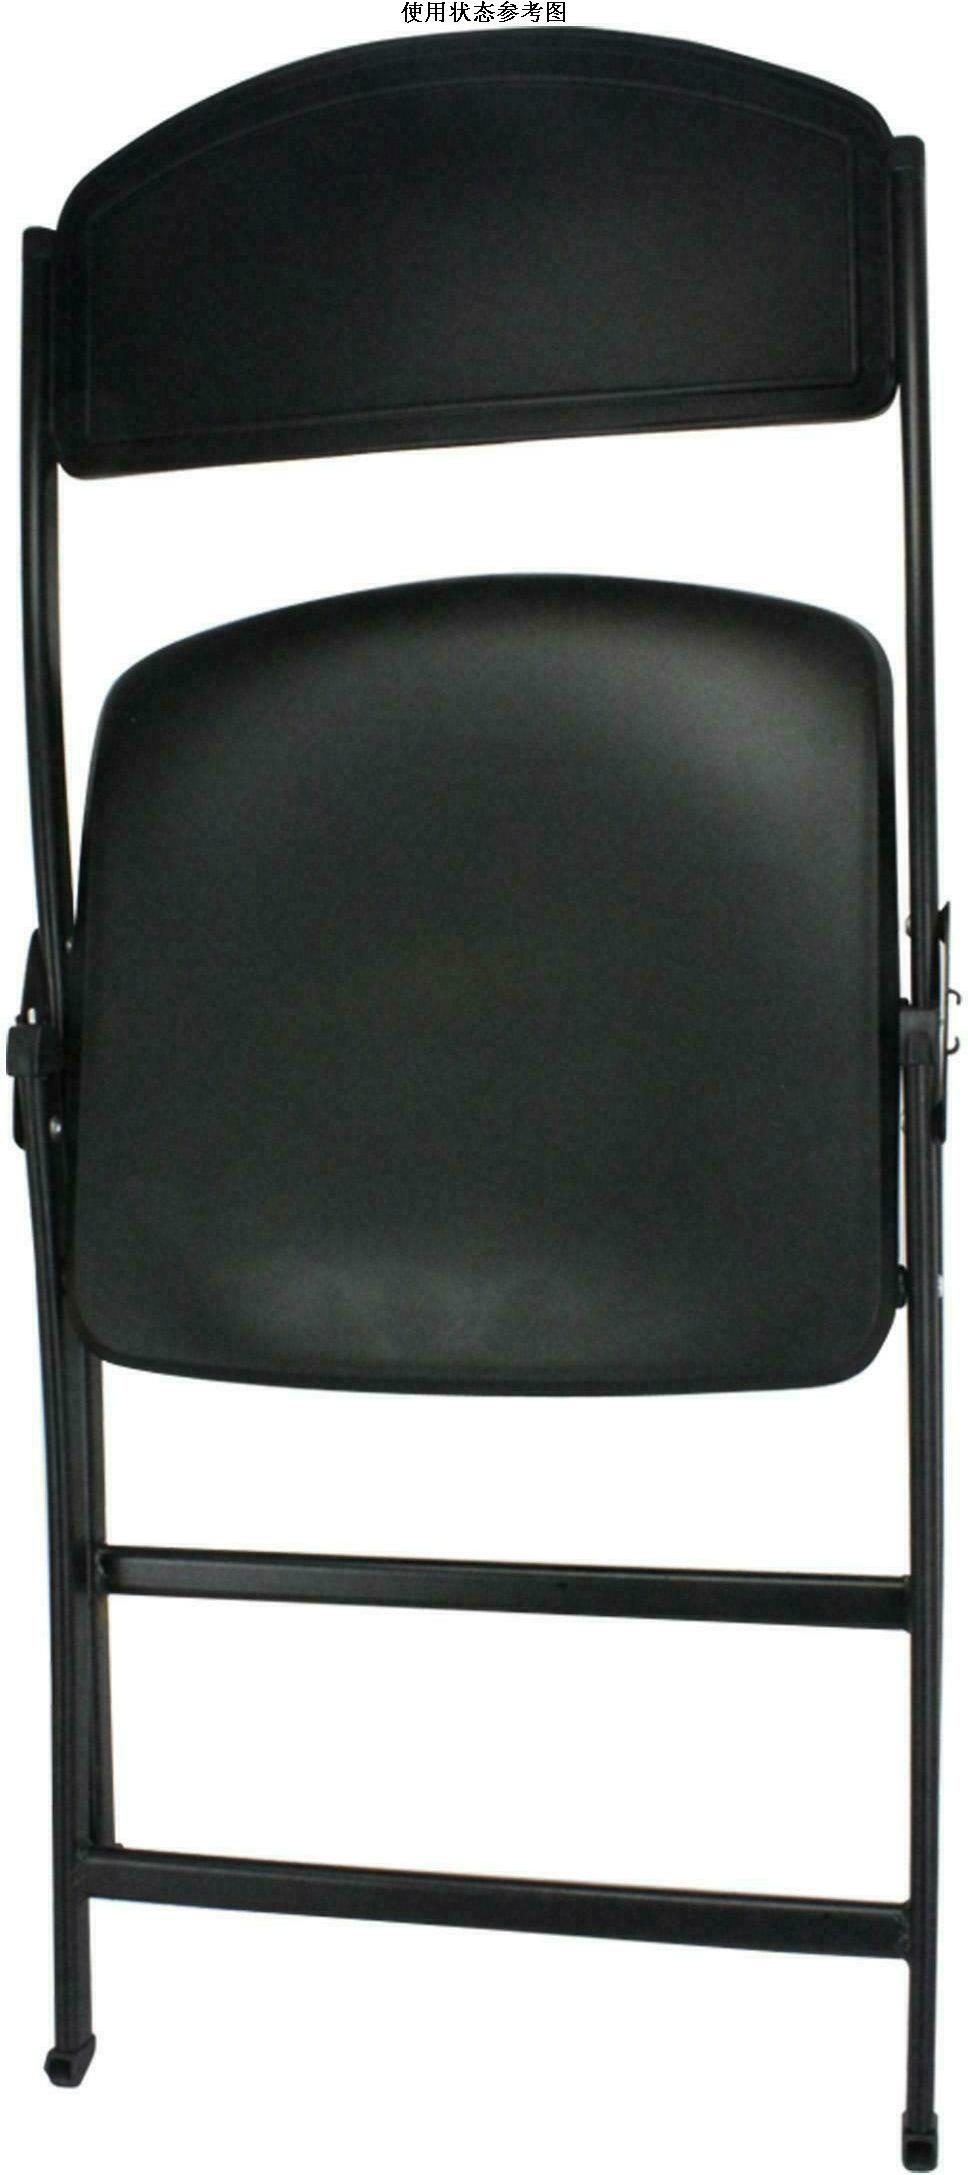obstacle: (8, 29, 946, 2174)
